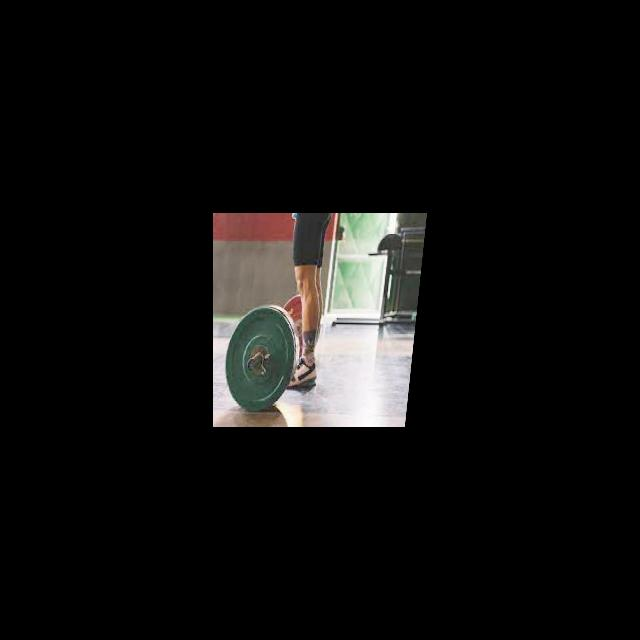barbell: (223, 303, 305, 414)
